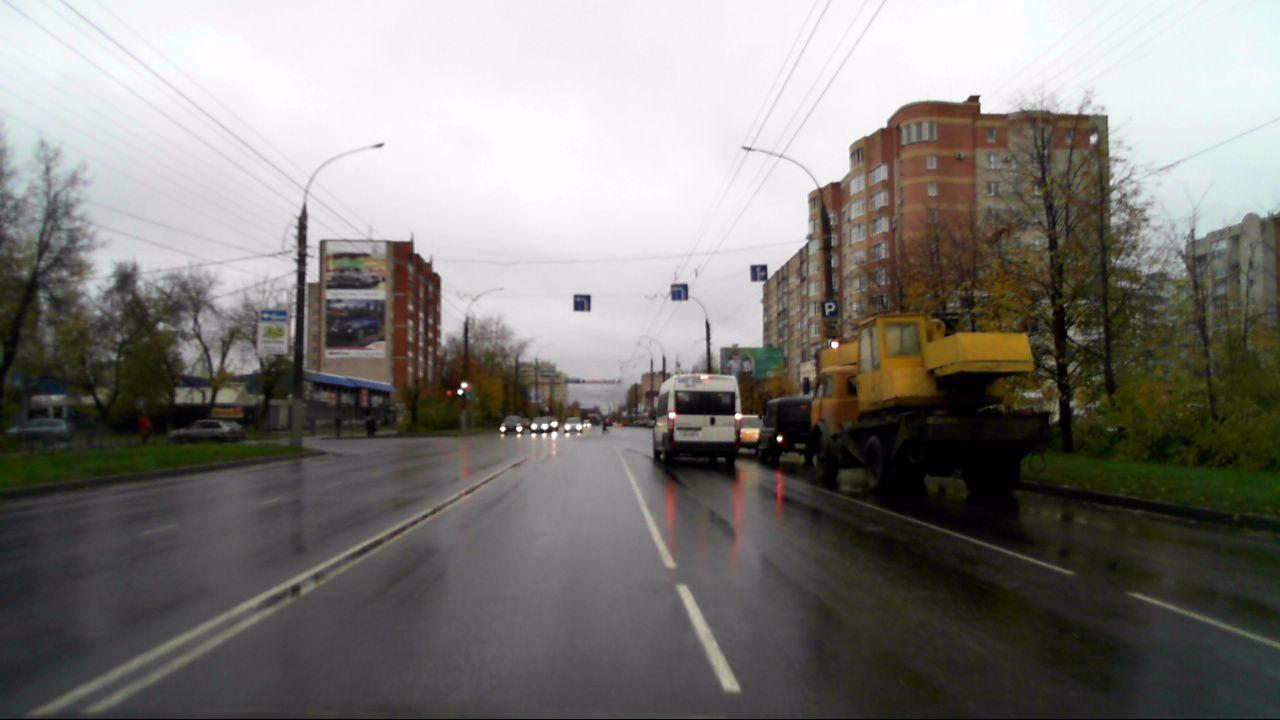5_15_2: (749, 263, 769, 282), (669, 283, 689, 301), (573, 294, 591, 311)
6_4: (821, 300, 838, 318)
8_3_1: (822, 318, 839, 327)
